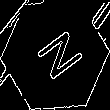N_SW: (26, 24, 84, 86)
